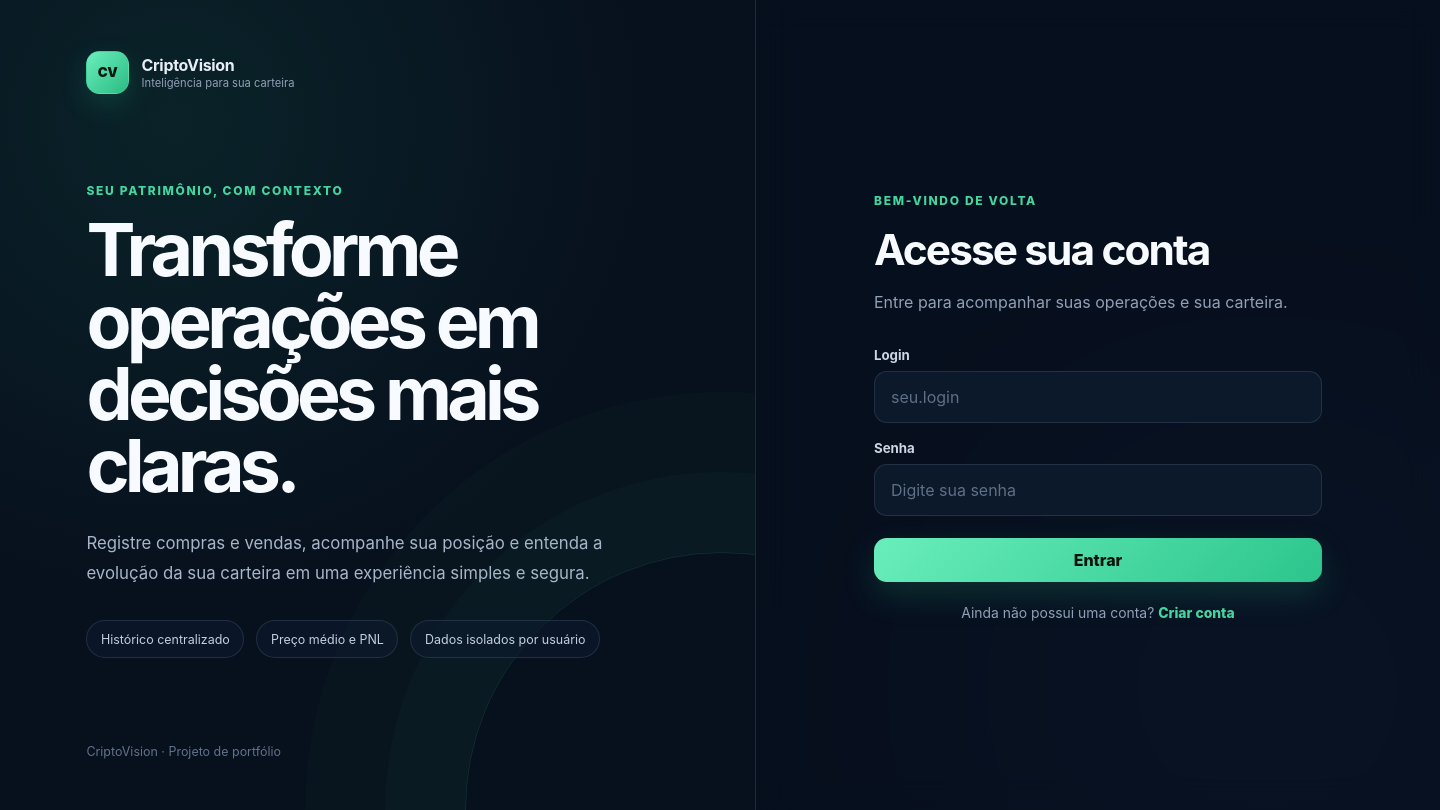
Test: LoginPage › mostra o detalhe padronizado quando o login falha
Type "alexandre" into the field labelled "Login" at [1098, 397], box [874,371,1322,423]
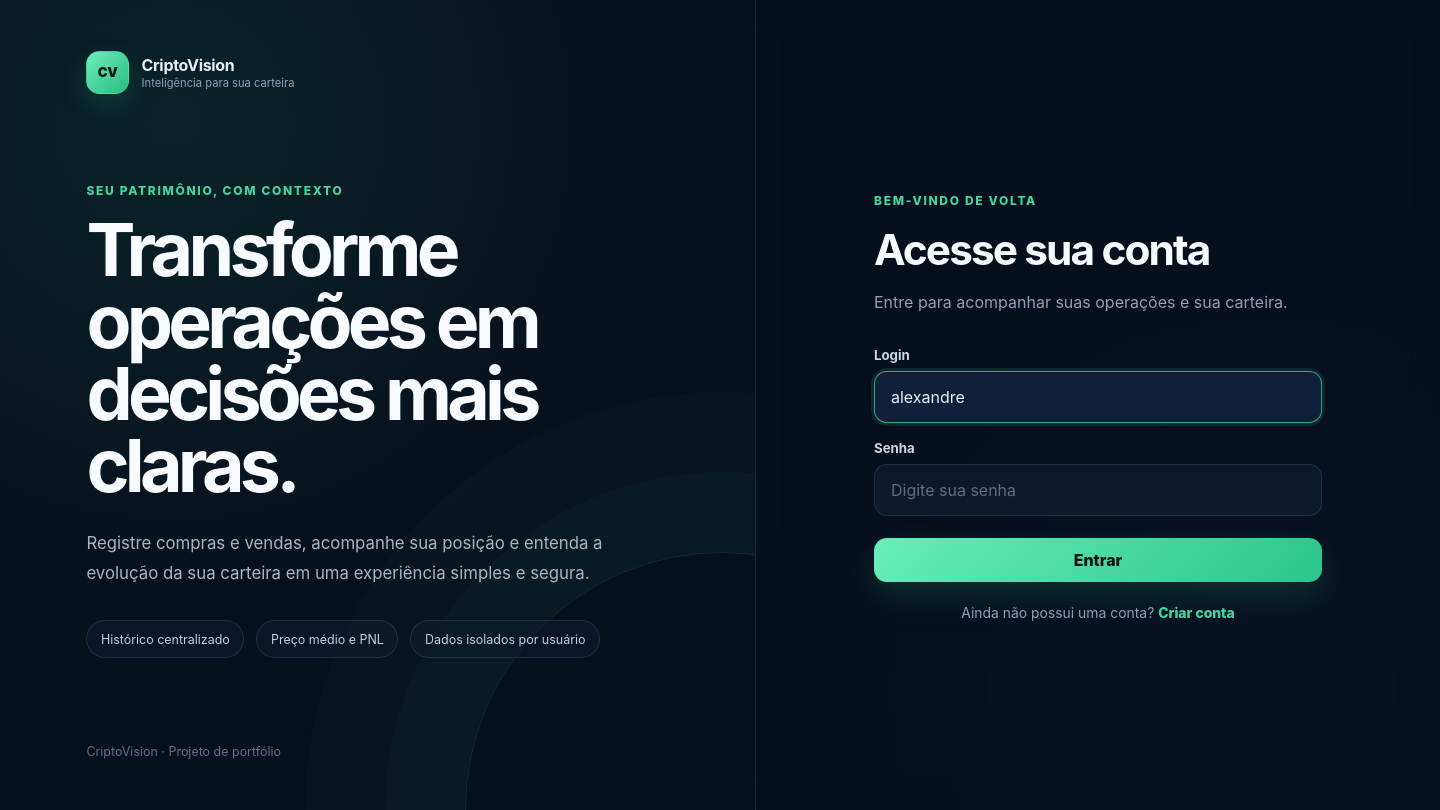
Type "senha-incorreta" into the password field labelled "Senha" at [1098, 490], box [874,464,1322,516]
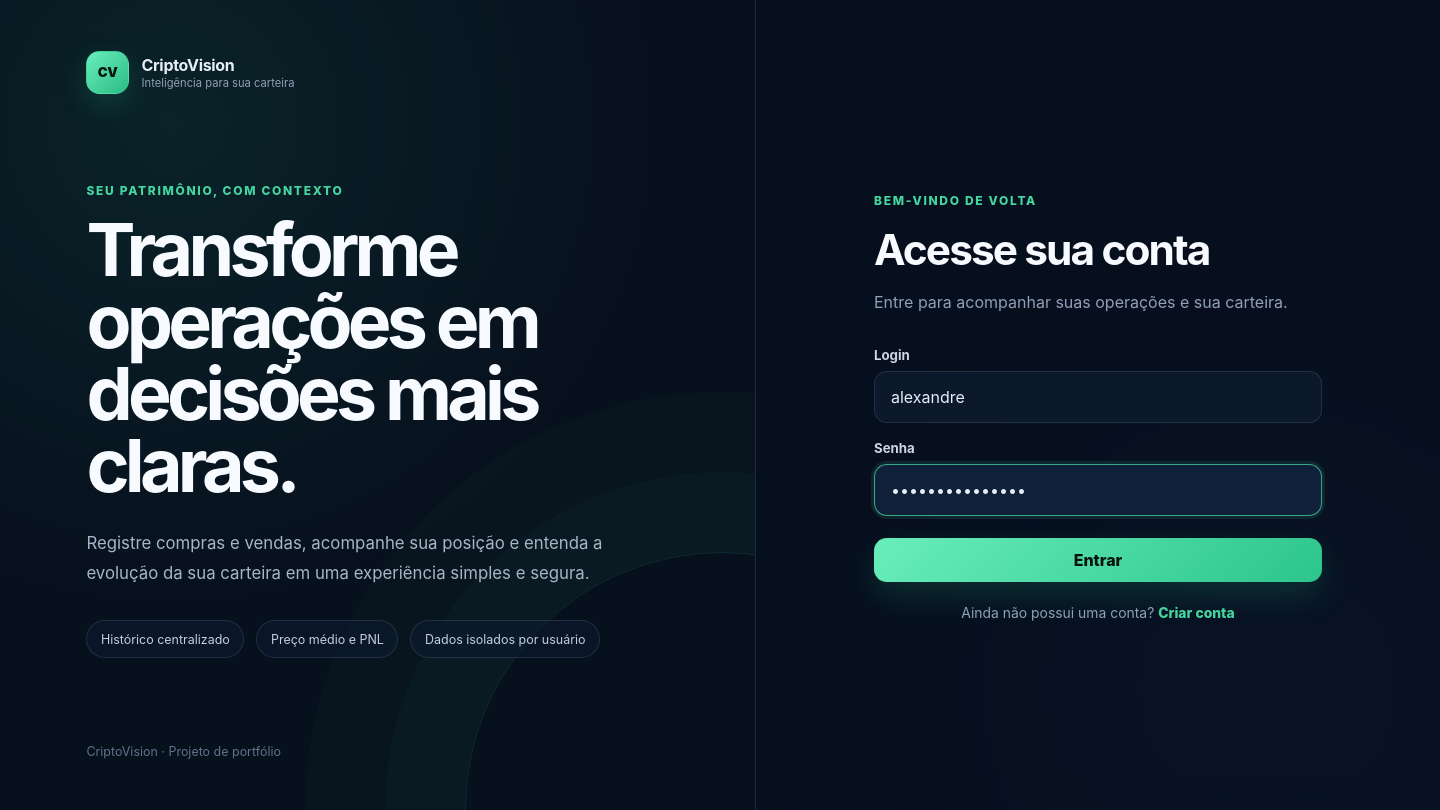
Click the button "Entrar" at [1098, 560], box [874,538,1322,582]
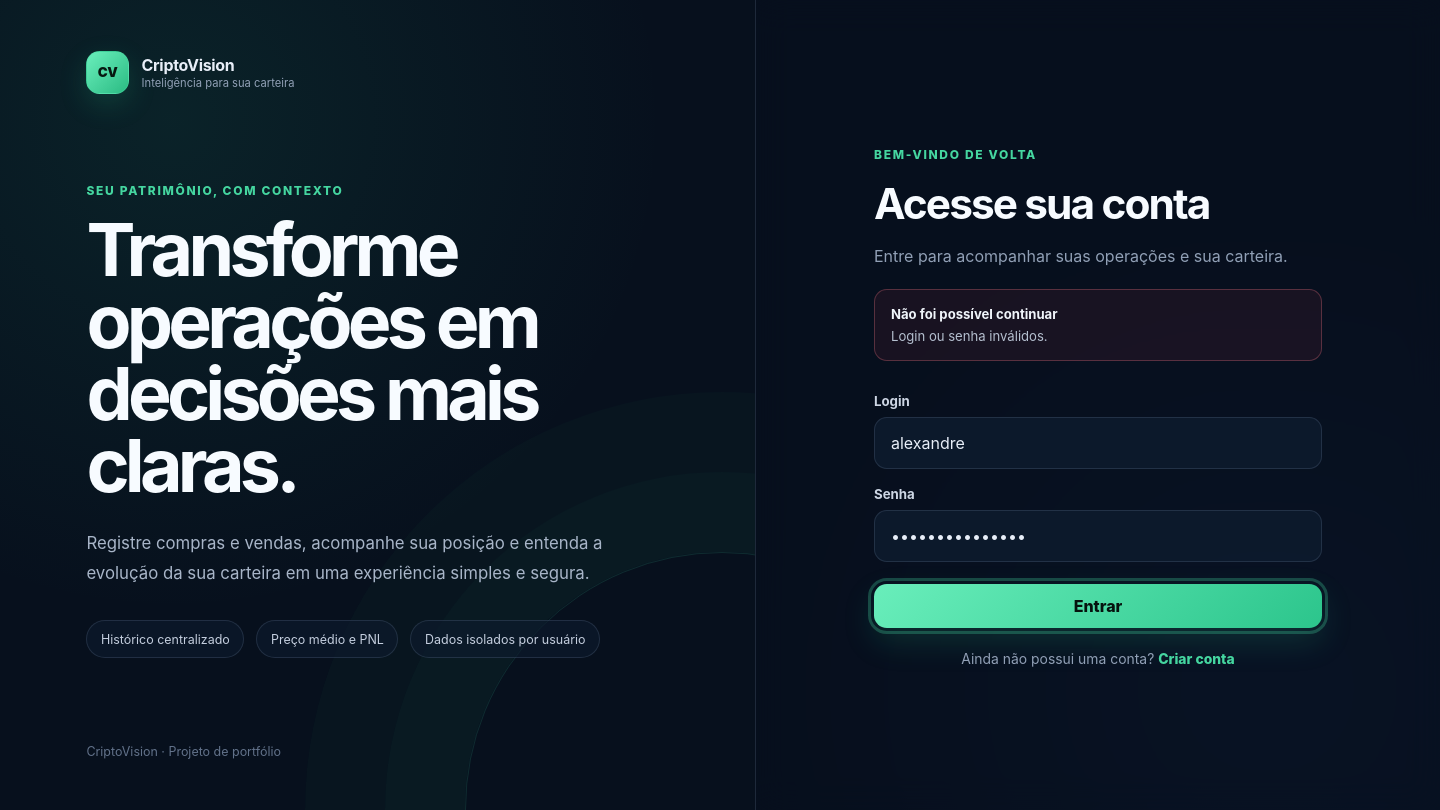
Expected: the text "Login ou senha inválidos." is shown, [891,328,1048,344]
